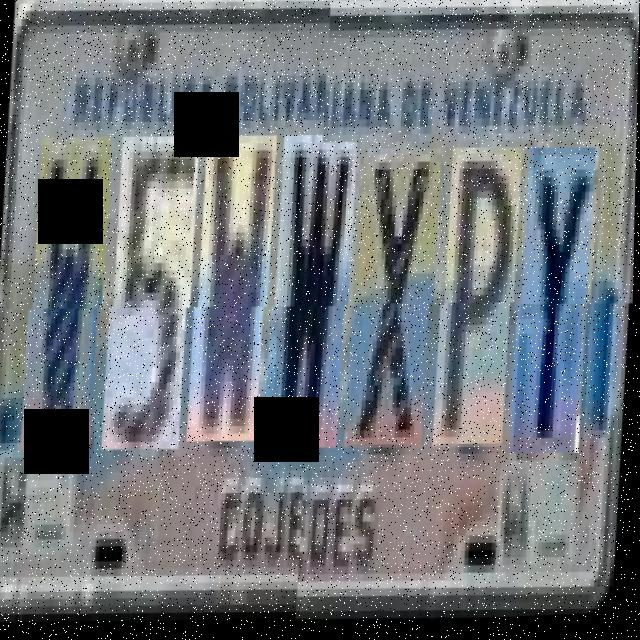5: (107, 142, 199, 460)
P: (438, 150, 523, 453)
W: (268, 142, 358, 453), (25, 143, 112, 460), (191, 142, 277, 453)
X: (349, 149, 442, 454)
Y: (514, 150, 601, 460)
